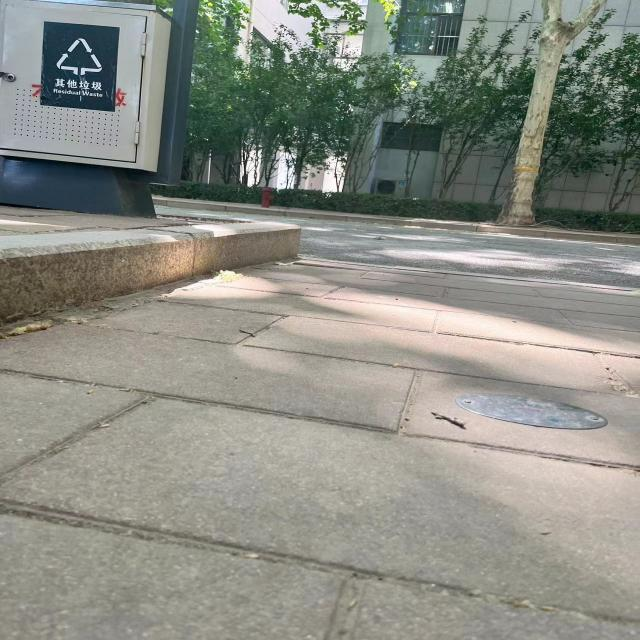bump: (0, 213, 302, 323)
